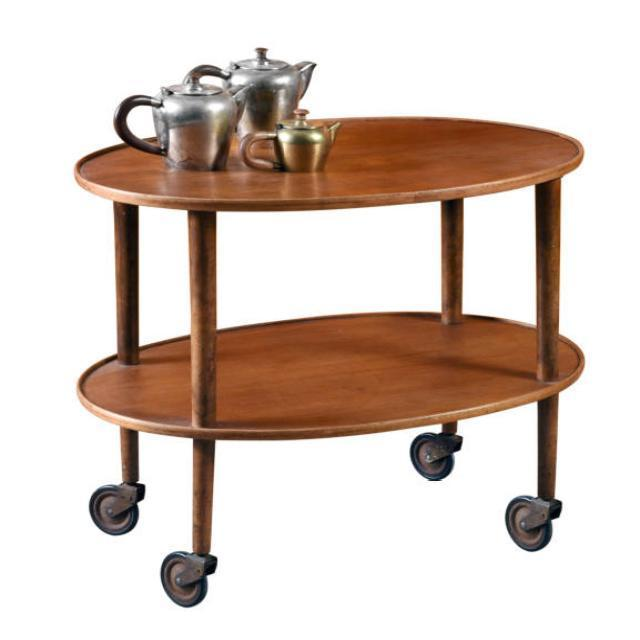table: (72, 114, 586, 607)
